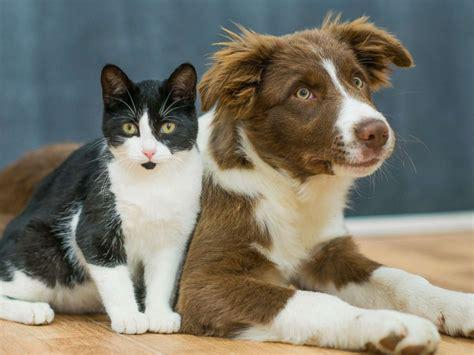cat: (1, 63, 199, 333)
dog: (1, 24, 474, 355)
